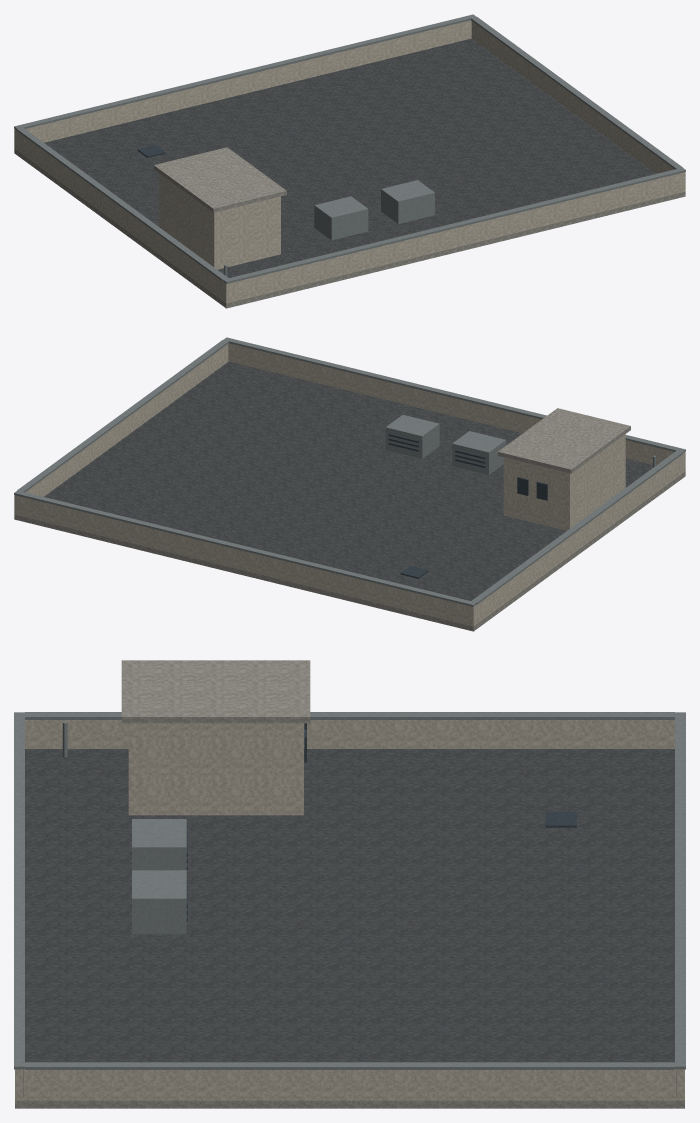
File: PZ_Midrise_RoofCap.glb
3 views of the same model, one above another, from view 1: azimuth 30°, elevation 25°; view 2: azimuth 150°, elevation 25°; view 3: azimuth 270°, elevation 25° (orthographic). The views are drawn at different scales.
Parts seen in each view (by area): view 1: RoofCap_RoofWaterproofing, RoofCap_Parapet_NonBaked, RoofCap_ParapetMetalCoping, RoofCap_LiftMachineHousing, RoofCap_MachineHousingCap, RoofCap_RoofSlab_20x16_SOLID_CAP, RoofCap_HVACCondenserUnits; view 2: RoofCap_RoofWaterproofing, RoofCap_Parapet_NonBaked, RoofCap_ParapetMetalCoping, RoofCap_LiftMachineHousing, RoofCap_MachineHousingCap, RoofCap_RoofSlab_20x16_SOLID_CAP, RoofCap_HVACCondenserUnits; view 3: RoofCap_RoofWaterproofing, RoofCap_Parapet_NonBaked, RoofCap_ParapetMetalCoping, RoofCap_LiftMachineHousing, RoofCap_MachineHousingCap, RoofCap_HVACCondenserUnits, RoofCap_RoofSlab_20x16_SOLID_CAP.
Boxes of the visible parts, x1,y1,x2,y2 form: RoofCap_RoofWaterproofing: [44, 38, 655, 277]; RoofCap_Parapet_NonBaked: [14, 20, 685, 303]; RoofCap_ParapetMetalCoping: [14, 14, 685, 283]; RoofCap_LiftMachineHousing: [159, 173, 280, 269]; RoofCap_MachineHousingCap: [154, 147, 286, 212]; RoofCap_RoofSlab_20x16_SOLID_CAP: [14, 148, 685, 308]; RoofCap_HVACCondenserUnits: [314, 180, 434, 240]; RoofCap_RoofWaterproofing: [44, 361, 652, 600]; RoofCap_Parapet_NonBaked: [14, 343, 685, 626]; RoofCap_ParapetMetalCoping: [14, 337, 685, 606]; RoofCap_LiftMachineHousing: [503, 434, 625, 530]; RoofCap_MachineHousingCap: [498, 408, 630, 473]; RoofCap_RoofSlab_20x16_SOLID_CAP: [14, 471, 685, 631]; RoofCap_HVACCondenserUnits: [385, 415, 506, 474]; RoofCap_RoofWaterproofing: [23, 749, 676, 1097]; RoofCap_Parapet_NonBaked: [15, 720, 684, 1100]; RoofCap_ParapetMetalCoping: [14, 712, 685, 1069]; RoofCap_LiftMachineHousing: [128, 723, 303, 815]; RoofCap_MachineHousingCap: [121, 660, 310, 723]; RoofCap_HVACCondenserUnits: [132, 819, 186, 934]; RoofCap_RoofSlab_20x16_SOLID_CAP: [15, 1098, 684, 1108].
Size of the model in its own units: 20.04 by 2.91 by 16.04.
5 materials, 5 textured.
